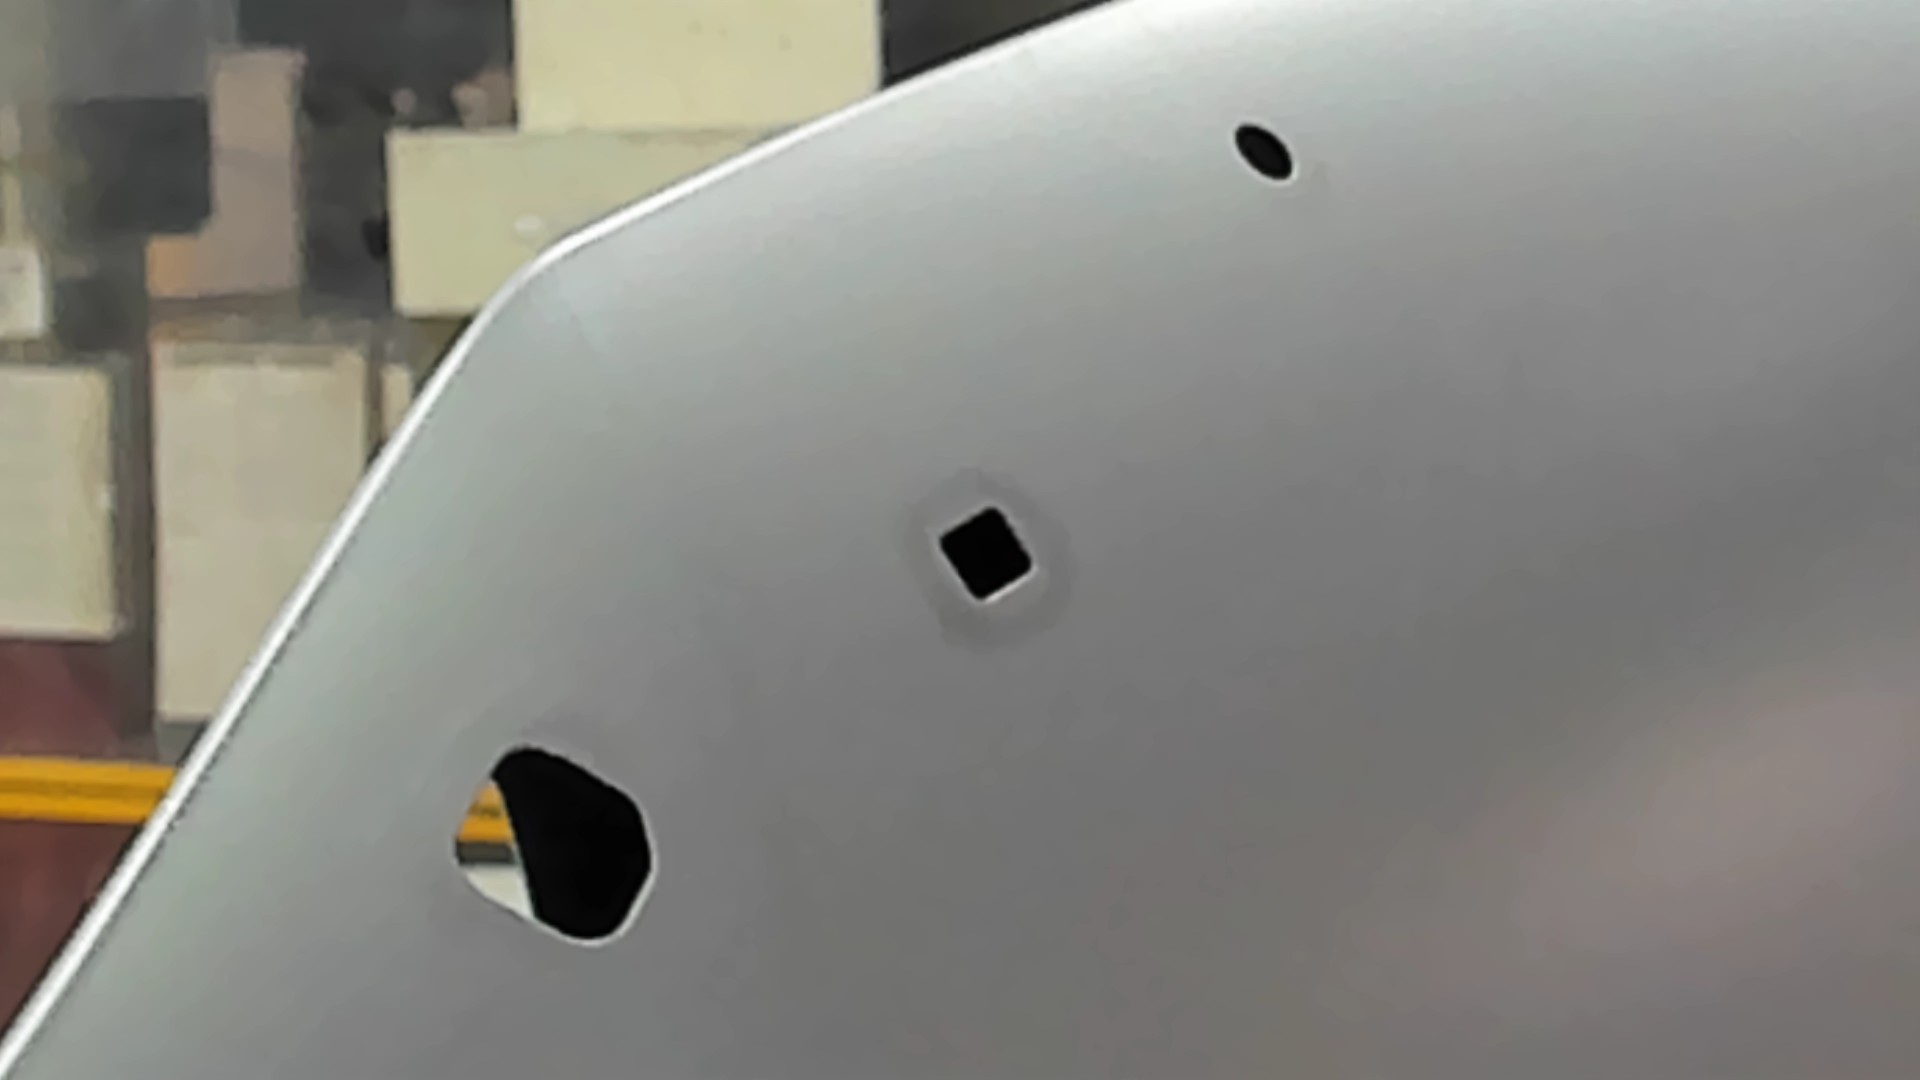chico: (1228, 117, 1298, 187)
grande: (448, 741, 665, 951)
mediano: (930, 501, 1042, 609)
